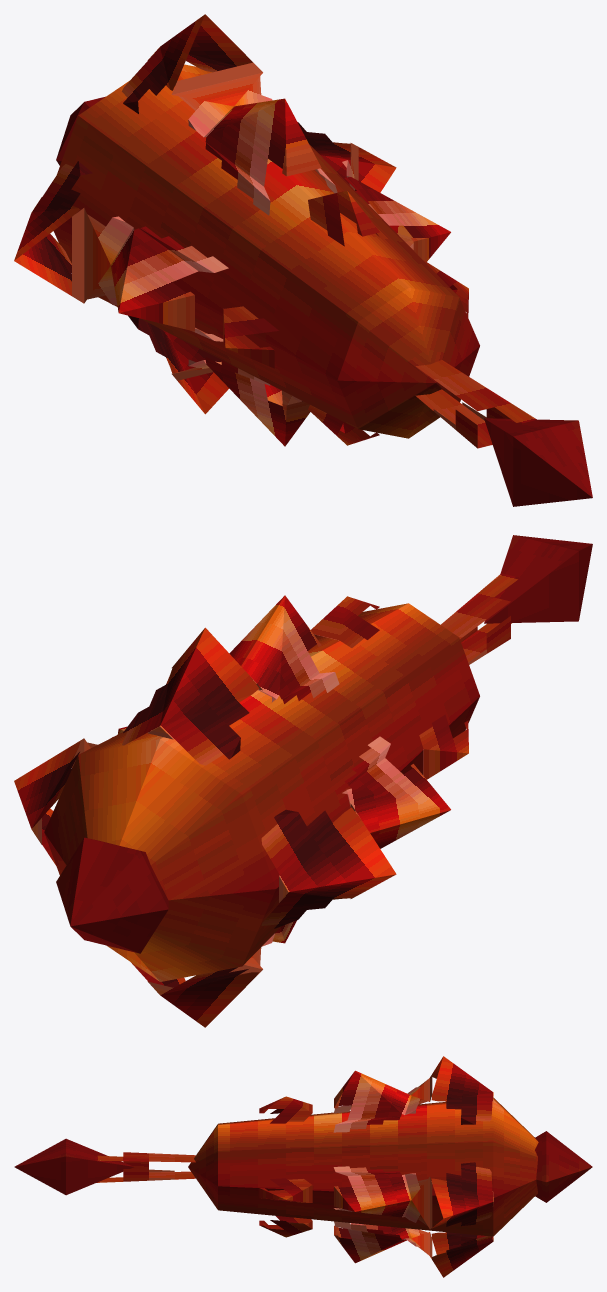
Rendered from club__2_double_club_double_club.glb.
The picture shows the model from 3 angles, top to bottom: view 1: azimuth 30°, elevation 25°; view 2: azimuth 150°, elevation 25°; view 3: azimuth 270°, elevation 25°; orthographic projection. The views are drawn at different scales.
Bounding box in the file's own units: 0.3877 × 0.3877 × 0.917.
1 material, 1 textured.
